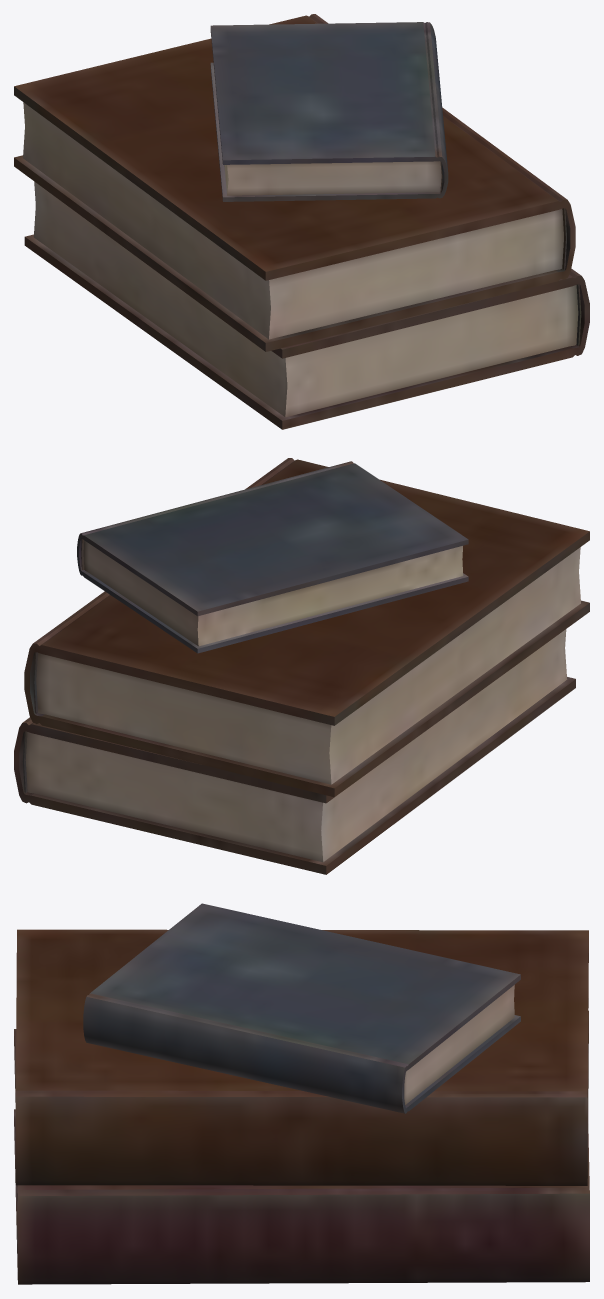
The model's file is book-pile-d.glb.
3 views of the same model, one above another, from view 1: azimuth 30°, elevation 25°; view 2: azimuth 150°, elevation 25°; view 3: azimuth 270°, elevation 25° (orthographic). The views are drawn at different scales.
Parts seen in each view (by area): view 1: book-pile-d; view 2: book-pile-d; view 3: book-pile-d.
Boxes of the visible parts, bbox=[...] form: book-pile-d: bbox=[14, 14, 589, 429]; book-pile-d: bbox=[14, 458, 589, 874]; book-pile-d: bbox=[14, 903, 589, 1284].
Bounding box in the file's own units: 0.1824 × 0.1038 × 0.2365.
1 material, 1 textured.
